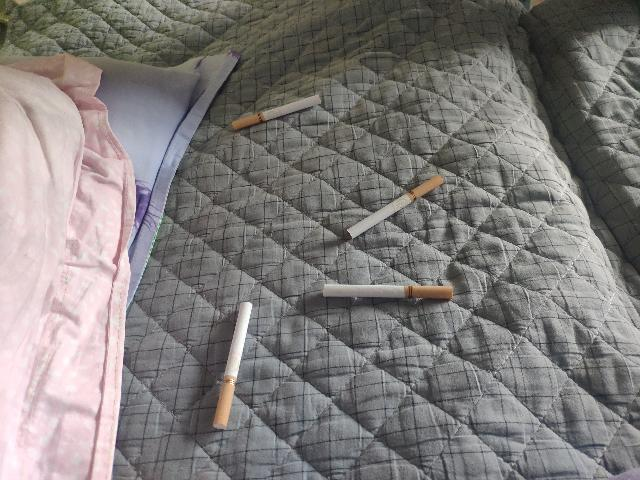Smoking: (348, 175, 444, 239), (214, 302, 252, 430), (232, 94, 322, 130), (323, 285, 453, 299)
